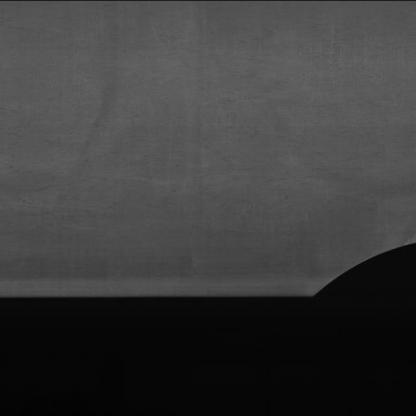crescent_gap: (297, 230, 416, 306)
